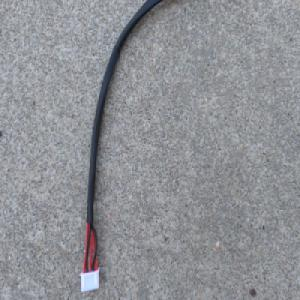Wire: (78, 0, 166, 296)
